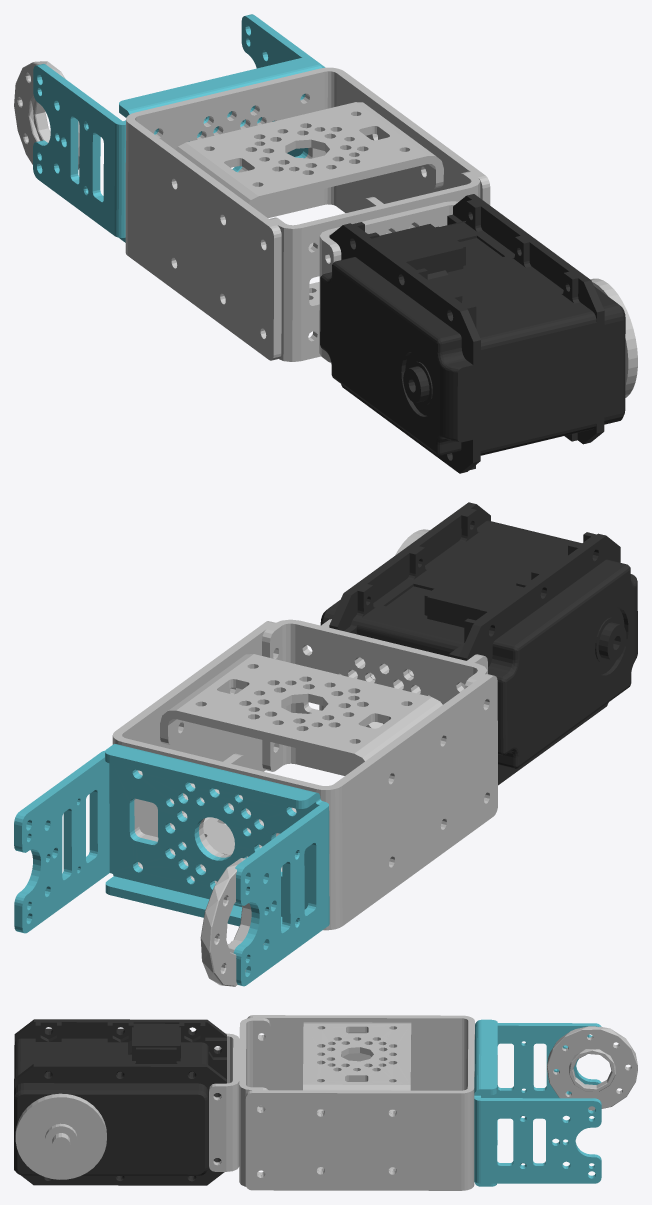
The model's file is right_lower_arm.dae.
3 renders of one model, top to bottom at view 1: azimuth 30°, elevation 25°; view 2: azimuth 150°, elevation 25°; view 3: azimuth 270°, elevation 25°, orthographic. The views are drawn at different scales.
Parts seen in each view (by area): view 1: left_lower_arm; view 2: left_lower_arm; view 3: left_lower_arm.
Part boxes in pixels (x1,y1,x2,y2): left_lower_arm: (14, 14, 637, 473); left_lower_arm: (14, 502, 637, 986); left_lower_arm: (14, 1015, 637, 1190).
Bounding box in the file's own units: 0.0587 × 0.1911 × 0.0404.
